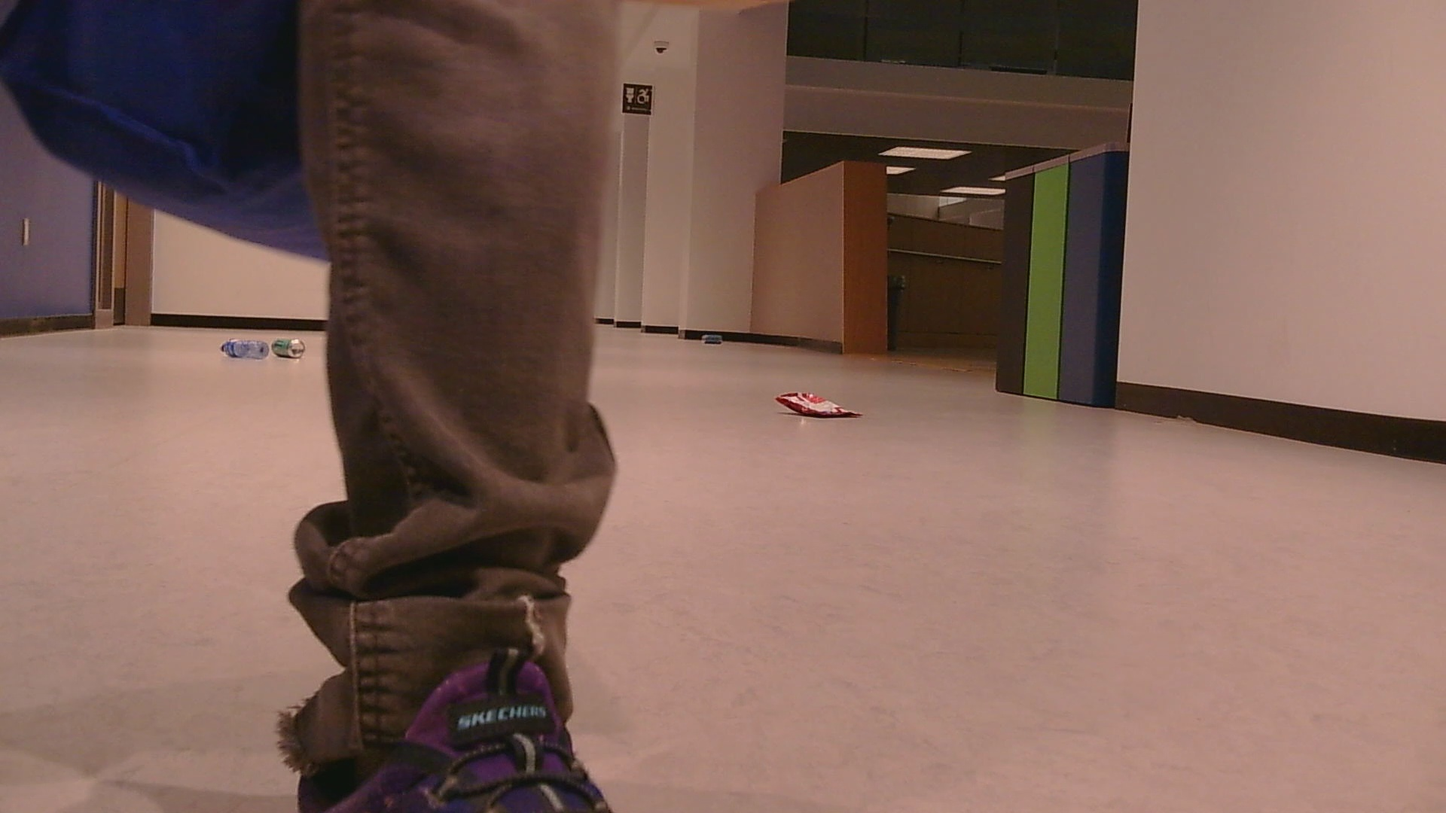carton: (776, 358, 862, 442), (212, 328, 274, 364), (265, 333, 313, 365), (703, 322, 729, 345)
